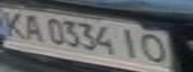0: (42, 16, 66, 47)
3: (60, 18, 81, 50), (78, 20, 96, 53)
4: (93, 23, 118, 57)
A: (18, 12, 48, 43)
I: (115, 25, 148, 61)
K: (0, 8, 30, 39)
O: (136, 32, 175, 66)
